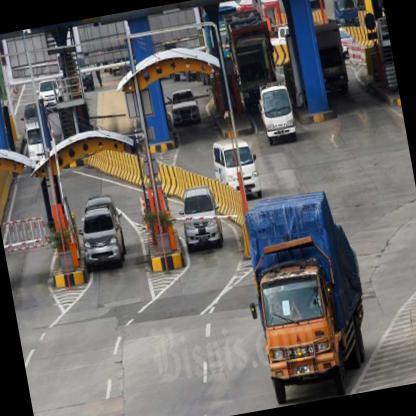truck: (252, 256, 353, 407)
